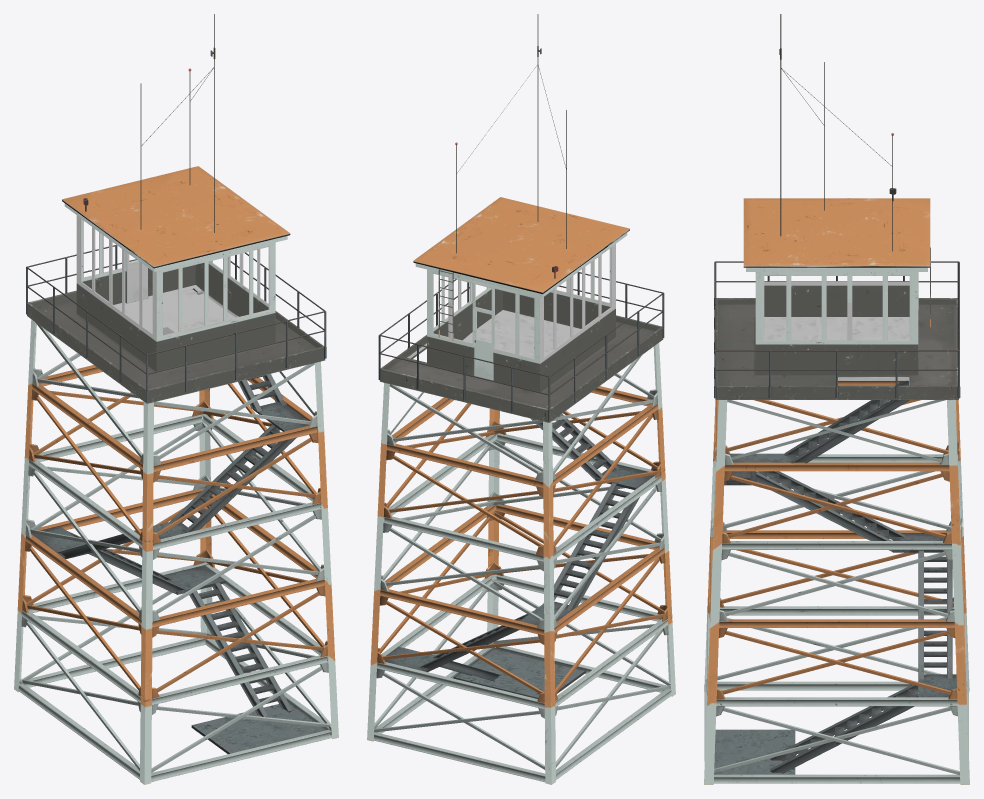
Rendered from watchtower.glb.
The picture shows the model from 3 angles, left to right: view 1: azimuth 30°, elevation 25°; view 2: azimuth 150°, elevation 25°; view 3: azimuth 270°, elevation 25°; orthographic projection. The views are drawn at different scales.
Visible parts, largest first — view 1: defaultMaterial_251, defaultMaterial_198, defaultMaterial_157, defaultMaterial_68; view 2: defaultMaterial_251, defaultMaterial_198, defaultMaterial_157, defaultMaterial_68; view 3: defaultMaterial_251, defaultMaterial_198, defaultMaterial_68, defaultMaterial_157.
Part boxes in pixels (x1,y1,x2,y2): defaultMaterial_251: (14, 14, 338, 784); defaultMaterial_198: (18, 322, 331, 781); defaultMaterial_157: (22, 365, 327, 698); defaultMaterial_68: (26, 245, 331, 753); defaultMaterial_251: (367, 14, 675, 784); defaultMaterial_198: (373, 355, 671, 782); defaultMaterial_157: (377, 386, 667, 702); defaultMaterial_68: (378, 272, 664, 698); defaultMaterial_251: (704, 14, 969, 784); defaultMaterial_198: (704, 400, 968, 783); defaultMaterial_68: (714, 261, 960, 774); defaultMaterial_157: (707, 381, 966, 699).
Bounding box in the file's own units: 19.38 × 68.35 × 22.62.
Materials: 4 (4 with a texture image).
